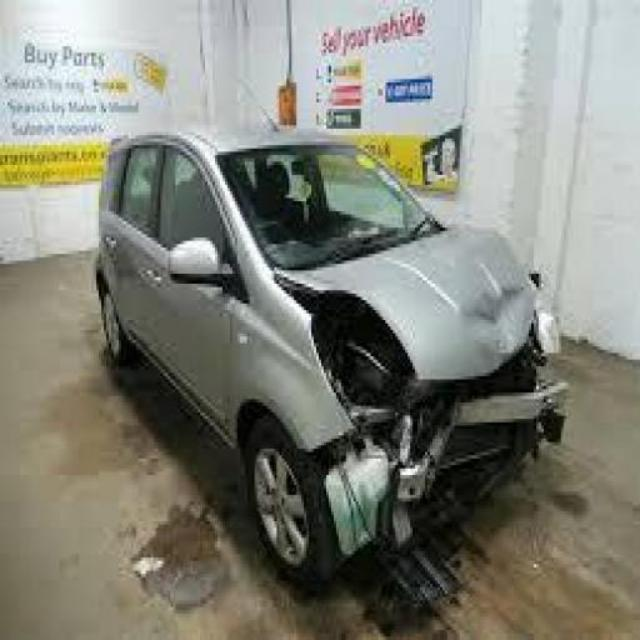dislocated part: (282, 227, 569, 553)
